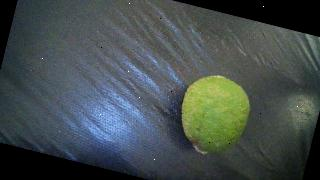DESECHO: (172, 69, 257, 163)
